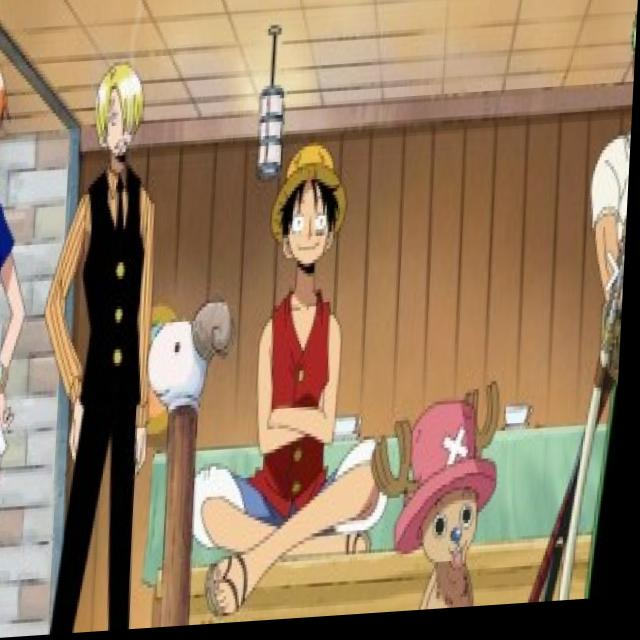Chyopa: (360, 383, 522, 620)
Luffy: (263, 131, 363, 294)
Sangdi: (86, 48, 156, 174)
